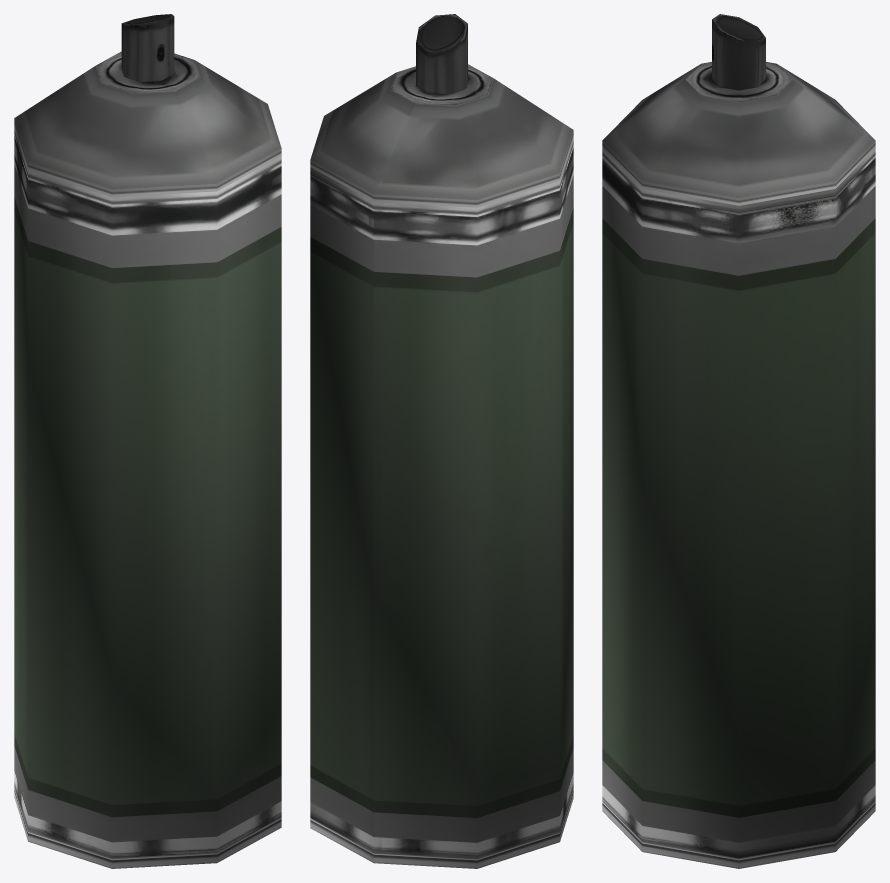
File: Spray_Slim.fbx
3 renders of one model, left to right at view 1: azimuth 30°, elevation 25°; view 2: azimuth 150°, elevation 25°; view 3: azimuth 270°, elevation 25°, orthographic.
Parts seen in each view (by area): view 1: SprayLowSlim; view 2: SprayLowSlim; view 3: SprayLowSlim.
Part boxes in pixels (x1,y1,x2,y2): SprayLowSlim: [14, 14, 281, 868]; SprayLowSlim: [310, 14, 573, 868]; SprayLowSlim: [602, 14, 875, 868].
Bounding box in the file's own units: 164 × 524 × 164.
